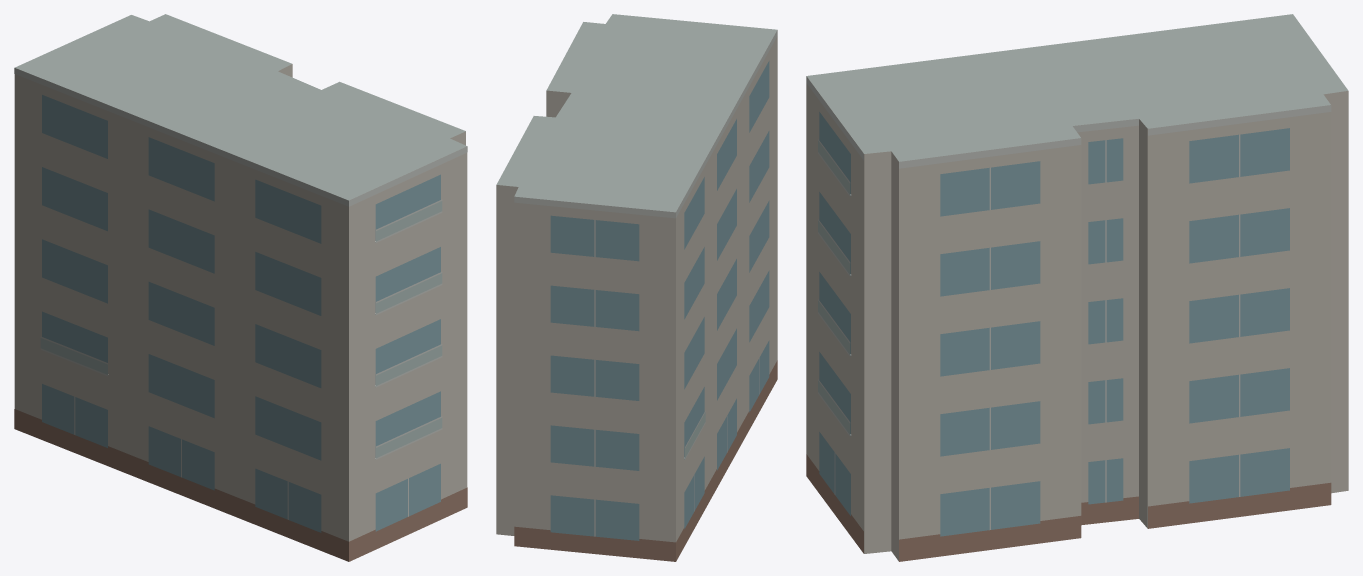
Rendered from survey-upis-32621359.glb.
The picture shows the model from 3 angles, left to right: view 1: azimuth 30°, elevation 25°; view 2: azimuth 150°, elevation 25°; view 3: azimuth 270°, elevation 25°; orthographic projection. The views are drawn at different scales.
Visible parts, largest first — view 1: survey-upis-32621359.tmp; view 2: survey-upis-32621359.tmp; view 3: survey-upis-32621359.tmp.
Boxes of the visible parts, x1,y1,x2,y2 form: survey-upis-32621359.tmp: (14, 14, 467, 561); survey-upis-32621359.tmp: (496, 14, 777, 561); survey-upis-32621359.tmp: (806, 14, 1348, 561).
Bounding box in the file's own units: 11.27 × 14.2 × 17.45.
